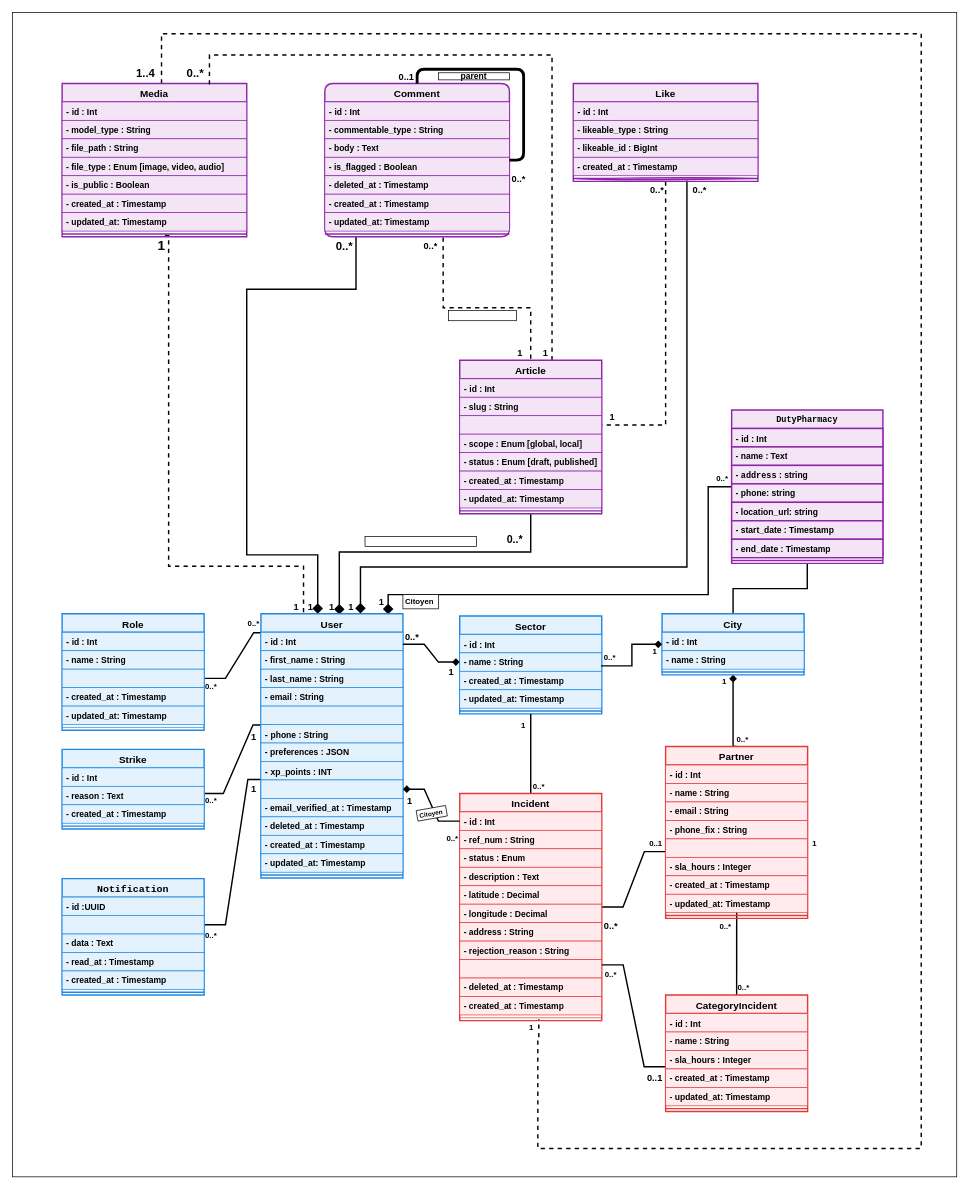
This 969x1189 diagram has some shape labels left out. Here are the shapes that lost their labels. From the top down, the centre of each, then its label:
At pixel 482 315: "l'commentable".
At pixel 530 424: "- content : LongText".
At pixel 420 541: "Manager & Journaliste".
At pixel 132 678: "- label : String".
At pixel 331 715: "- password : String".
At pixel 331 788: "- is_banned : Boolean".
At pixel 736 847: "- whatsapp: String".
At pixel 132 924: "- type : String".
At pixel 530 968: "- resolved_at : Timestamp".
